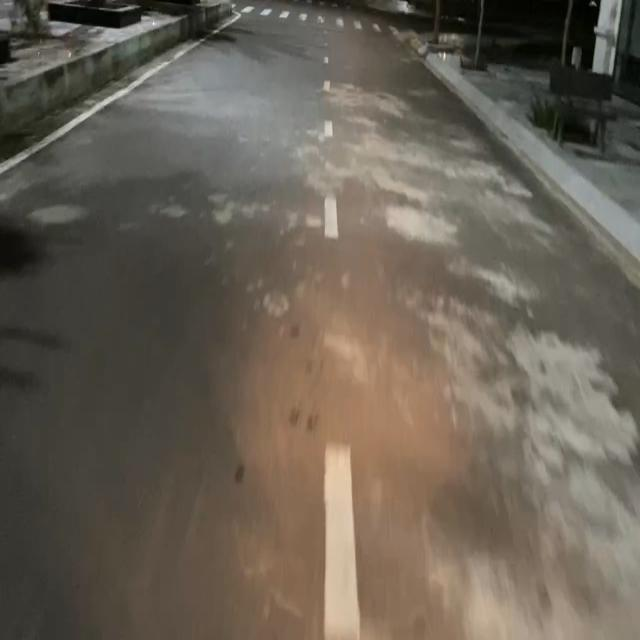walk-crossing: (240, 0, 405, 42)
